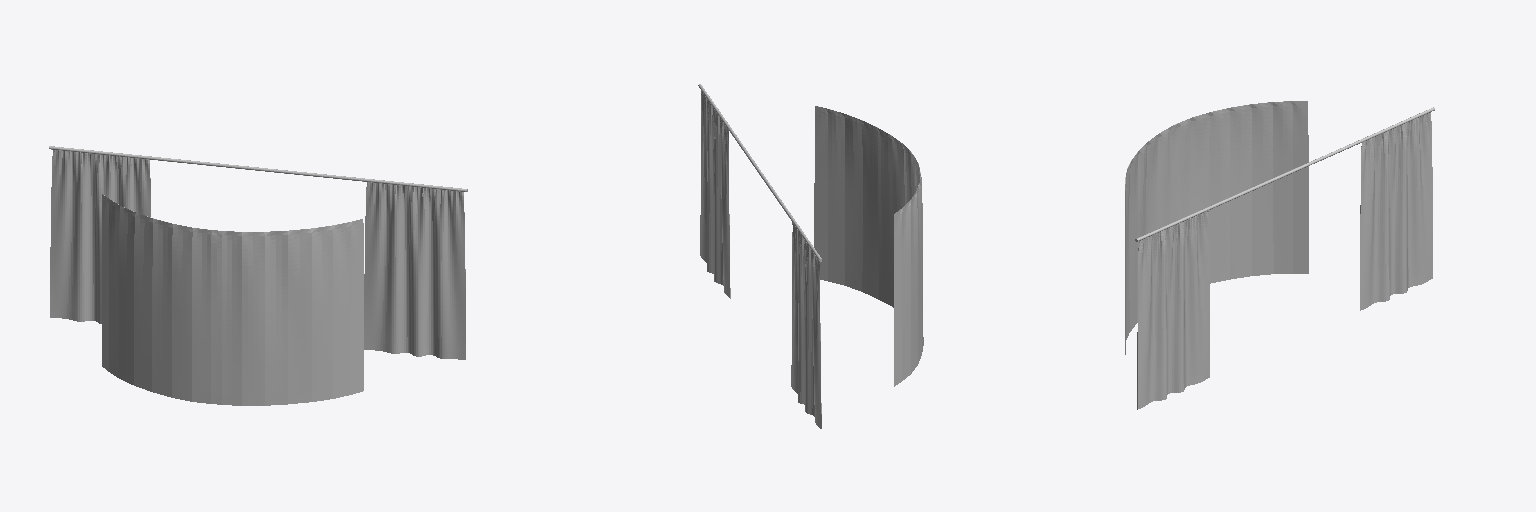
The model's file is Curtains.obj.
3 views of the same model, side by side, from view 1: azimuth 30°, elevation 25°; view 2: azimuth 150°, elevation 25°; view 3: azimuth 270°, elevation 25° (orthographic).
Visible parts, largest first — view 1: Plane_Plane.003, Plane.001_Plane.006; view 2: Plane_Plane.003, Plane.001_Plane.006; view 3: Plane_Plane.003, Plane.001_Plane.006.
Boxes of the visible parts, box(x1,y1,x2,y2) form: Plane_Plane.003: box(49, 146, 467, 405); Plane.001_Plane.006: box(50, 150, 465, 359); Plane_Plane.003: box(698, 84, 923, 386); Plane.001_Plane.006: box(700, 91, 821, 428); Plane_Plane.003: box(1125, 101, 1434, 354); Plane.001_Plane.006: box(1137, 112, 1432, 409).
Bounding box in the file's own units: 22.78 × 13.37 × 21.75.